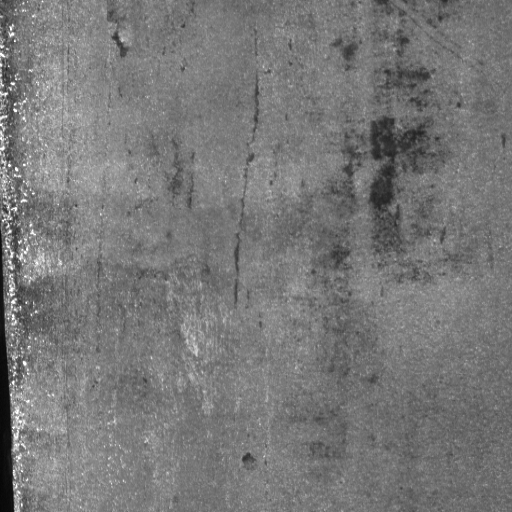zongxiangliewen: (232, 20, 263, 308)
